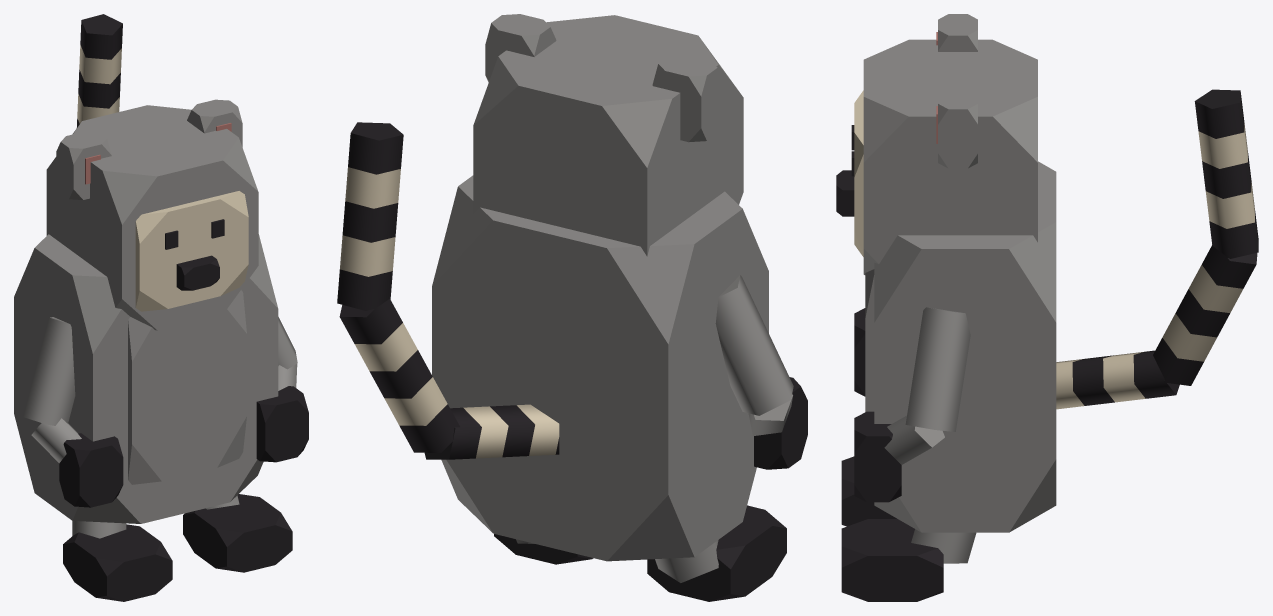
Rendered from original-ringtail.glb.
The picture shows the model from 3 angles, left to right: view 1: azimuth 30°, elevation 25°; view 2: azimuth 150°, elevation 25°; view 3: azimuth 270°, elevation 25°; orthographic projection. The views are drawn at different scales.
Visible parts, largest first — view 1: ringtail; view 2: ringtail; view 3: ringtail.
Boxes of the visible parts, x1,y1,x2,y2 form: ringtail: [14, 14, 308, 601]; ringtail: [337, 14, 807, 601]; ringtail: [836, 14, 1258, 601].
Bounding box in the file's own units: 0.9975 × 1.49 × 1.16.
